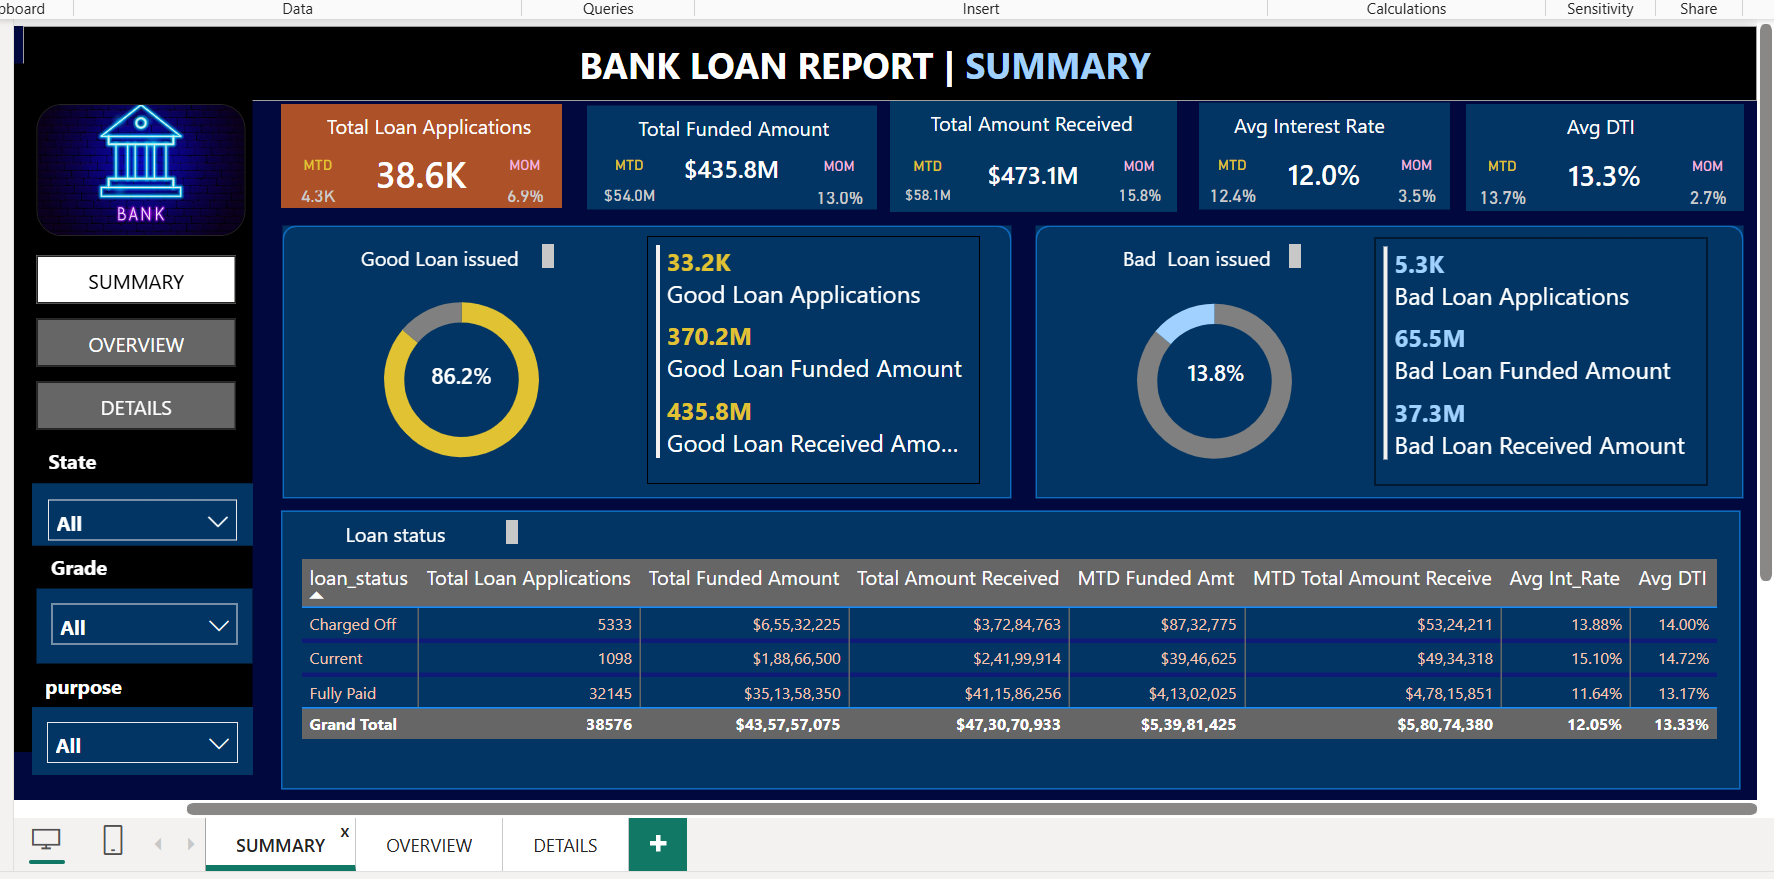

The page's visual inventory and layout, read from the dashboard file:
{"tool":"powerbi","page":{"name":"SUMMARY","canvas":[1280,720],"ordinal":0},"visuals":[{"type":"shape","box":[124,0,1156,50],"z":0},{"type":"shape","box":[109,25,168,459],"z":1000},{"type":"textbox","box":[702,50,191,74],"z":1000,"group":"g2"},{"type":"textbox","box":[908,51,167,71],"z":1000,"group":"g3"},{"type":"textbox","box":[296,52,187,69],"z":1000,"group":"g1"},{"type":"textbox","box":[1086,52,185,71],"z":1000,"group":"g4"},{"type":"textbox","box":[500,53,193,69],"z":1000,"group":"g5"},{"type":"shape","box":[296,323,973,186],"z":2000},{"type":"group","id":"g1","title":"Group 1","box":[296,52,187,69],"z":3000},{"type":"group","id":"g2","title":"Group 1","box":[702,50,191,74],"z":4000},{"type":"group","id":"g3","title":"Group 1","box":[908,51,167,71],"z":5000},{"type":"group","id":"g4","title":"Group 1","box":[1086,52,185,71],"z":6000},{"type":"card","fields":{"Values":["bank_loan_data.Total Funded Amount"]},"box":[549.1,76.8,93.9,40],"z":7000,"group":"g5"},{"type":"card","fields":{"Values":["bank_loan_data.Average Interest Reate"]},"box":[950.6,84,80.8,32],"z":7000,"group":"g3"},{"type":"card","fields":{"Values":["bank_loan_data.Total Loan Applications"]},"box":[343.7,84.1,90.4,31.1],"z":7000,"group":"g1"},{"type":"card","fields":{"Values":["bank_loan_data.Total Amount Received"]},"box":[750.7,84.4,92.4,33.4],"z":7000,"group":"g2"},{"type":"card","fields":{"Values":["bank_loan_data.Avg DTI"]},"box":[1133.2,85,89.5,32],"z":7000,"group":"g4"},{"type":"card","fields":{"Values":["bank_loan_data.Total Amount Received"]},"box":[385,217,63,36],"z":7000},{"type":"textbox","box":[490,4,407,42],"z":8000},{"type":"textbox","box":[702,50,191,34.4],"z":8000,"group":"g2"},{"type":"textbox","box":[908,51,167,33],"z":8000,"group":"g3"},{"type":"textbox","box":[296,52,187,32.1],"z":8000,"group":"g1"},{"type":"textbox","box":[1086,52,185,33],"z":8000,"group":"g4"},{"type":"textbox","box":[500,53,193,32.1],"z":8000,"group":"g5"},{"type":"group","id":"g5","title":"Group 1","box":[500,53,193,69],"z":9000},{"type":"card","title":"MTD","fields":{"Values":["bank_loan_data.MTD Loan Applications"]},"box":[296,87,48.9,31.1],"z":9000,"group":"g1"},{"type":"card","title":"MTD","fields":{"Values":["bank_loan_data.MTD Funded Amount"]},"box":[500,87,55.5,32.1],"z":9000,"group":"g5"},{"type":"card","title":"MTD","fields":{"Values":["bank_loan_data.MTD Avg Int Rate"]},"box":[908,87,43.7,32],"z":9000,"group":"g3"},{"type":"card","title":"MTD","fields":{"Values":["bank_loan_data.MTD Total Amount Receive"]},"box":[702,87.5,49.9,33.4],"z":9000,"group":"g2"},{"type":"card","title":"MTD","fields":{"Values":["bank_loan_data.MTD Avg DTI"]},"box":[1086,88,48.4,32],"z":9000,"group":"g4"},{"type":"card","title":"MOM","fields":{"Values":["bank_loan_data.MOM Loan Applications"]},"box":[434.1,87,48.9,31.1],"z":10000,"group":"g1"},{"type":"card","title":"MOM","fields":{"Values":["bank_loan_data.MOM Avg Int Rate"]},"box":[1031.3,87,43.7,32],"z":10000,"group":"g3"},{"type":"card","title":"MOM","fields":{"Values":["bank_loan_data.MOM Total amount Received"]},"box":[843.1,87.5,49.9,33.4],"z":10000,"group":"g2"},{"type":"card","title":"MOM","fields":{"Values":["bank_loan_data.MOM Total Funded amount"]},"box":[642.5,88,50.5,31.1],"z":10000,"group":"g5"},{"type":"card","title":"MOM","fields":{"Values":["bank_loan_data.MOM Avg DTI"]},"box":[1222.6,88,48.4,32],"z":10000,"group":"g4"},{"type":"shape","box":[297,133,486,182],"z":10000},{"type":"shape","box":[799,133,472,182],"z":11000},{"type":"donutChart","fields":{"Category":["bank_loan_data.GoodLoan Vs BadLoan"],"Y":["bank_loan_data.Total Loan Applications"]},"box":[304,166,224,139],"z":12000},{"type":"textbox","box":[326,140,157,26],"z":13000},{"type":"card","fields":{"Values":["bank_loan_data.Good Loan %"]},"box":[383,219,66,32],"z":14000},{"type":"multiRowCard","fields":{"Values":["bank_loan_data.Good Loan Applications","bank_loan_data.Good Loan Funded Amount","bank_loan_data.Good Loan Received Amount"]},"box":[540,140,222,165],"z":15000},{"type":"card","fields":{"Values":["bank_loan_data.Bad Loan %"]},"box":[886,217,66,32],"z":16000},{"type":"donutChart","fields":{"Category":["bank_loan_data.GoodLoan Vs BadLoan"],"Y":["bank_loan_data.Total Loan Applications"]},"box":[806,167,224,139],"z":17000},{"type":"textbox","box":[834,140,147,26],"z":18000},{"type":"multiRowCard","fields":{"Values":["bank_loan_data.Bad Loan Applications","bank_loan_data.Bad Loan Funded Amount","bank_loan_data.Bad Loan Received Amount"]},"box":[1025,141,222,165],"z":19000},{"type":"tableEx","fields":{"Values":["bank_loan_data.loan_status","bank_loan_data.Total Loan Applications","bank_loan_data.Total Funded Amount","bank_loan_data.Total Amount Received","bank_loan_data.MTD Funded Amt","bank_loan_data.MTD Total Amount Receive","bank_loan_data.Average Interest Reate","bank_loan_data.Avg DTI"]},"box":[304,350,955,149],"z":20000},{"type":"textbox","box":[312,324,147,26],"z":21000},{"type":"slicer","fields":{"Values":["bank_loan_data.address_state"]},"box":[130,305,147,41],"z":22000},{"type":"slicer","fields":{"Values":["bank_loan_data.purpose"]},"box":[130,454,147,45],"z":23000},{"type":"slicer","fields":{"Values":["bank_loan_data.grade"]},"box":[133,375,144,50],"z":24000},{"type":"textbox","box":[130,425,79,29],"z":25000},{"type":"textbox","box":[134,346,79,29],"z":26000},{"type":"textbox","box":[136,275,77,30],"z":27000},{"type":"image","box":[133,52,139,88],"z":28000},{"type":"pageNavigator","box":[133,153,133,116],"z":29000}]}

Visuals, with their boxes on the page's 1280x720 design canvas (x1, y1, x2, y2). These are canvas units, not pixel positions in the 1774x879 screenshot, which may show the page scaled, cropped or inside an application window:
shape: 124/0/1280/50
shape: 109/25/277/484
textbox: 702/50/893/124
textbox: 908/51/1075/122
textbox: 296/52/483/121
textbox: 1086/52/1271/123
textbox: 500/53/693/122
shape: 296/323/1269/509
"Group 1" group: 296/52/483/121
"Group 1" group: 702/50/893/124
"Group 1" group: 908/51/1075/122
"Group 1" group: 1086/52/1271/123
card - bank_loan_data.Total Funded Amount: 549/77/643/117
card - bank_loan_data.Average Interest Reate: 951/84/1031/116
card - bank_loan_data.Total Loan Applications: 344/84/434/115
card - bank_loan_data.Total Amount Received: 751/84/843/118
card - bank_loan_data.Avg DTI: 1133/85/1223/117
card - bank_loan_data.Total Amount Received: 385/217/448/253
textbox: 490/4/897/46
textbox: 702/50/893/84
textbox: 908/51/1075/84
textbox: 296/52/483/84
textbox: 1086/52/1271/85
textbox: 500/53/693/85
"Group 1" group: 500/53/693/122
"MTD" card: 296/87/345/118
"MTD" card: 500/87/556/119
"MTD" card: 908/87/952/119
"MTD" card: 702/88/752/121
"MTD" card: 1086/88/1134/120
"MOM" card: 434/87/483/118
"MOM" card: 1031/87/1075/119
"MOM" card: 843/88/893/121
"MOM" card: 642/88/693/119
"MOM" card: 1223/88/1271/120
shape: 297/133/783/315
shape: 799/133/1271/315
donutChart - bank_loan_data.GoodLoan Vs BadLoan x bank_loan_data.Total Loan Applications: 304/166/528/305
textbox: 326/140/483/166
card - bank_loan_data.Good Loan %: 383/219/449/251
multiRowCard - bank_loan_data.Good Loan Applications x bank_loan_data.Good Loan Funded Amount: 540/140/762/305
card - bank_loan_data.Bad Loan %: 886/217/952/249
donutChart - bank_loan_data.GoodLoan Vs BadLoan x bank_loan_data.Total Loan Applications: 806/167/1030/306
textbox: 834/140/981/166
multiRowCard - bank_loan_data.Bad Loan Applications x bank_loan_data.Bad Loan Funded Amount: 1025/141/1247/306
tableEx - bank_loan_data.loan_status x bank_loan_data.Total Loan Applications: 304/350/1259/499
textbox: 312/324/459/350
slicer - bank_loan_data.address_state: 130/305/277/346
slicer - bank_loan_data.purpose: 130/454/277/499
slicer - bank_loan_data.grade: 133/375/277/425
textbox: 130/425/209/454
textbox: 134/346/213/375
textbox: 136/275/213/305
image: 133/52/272/140
pageNavigator: 133/153/266/269
